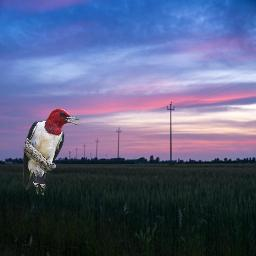Woodpecker: (21, 109, 83, 195)
